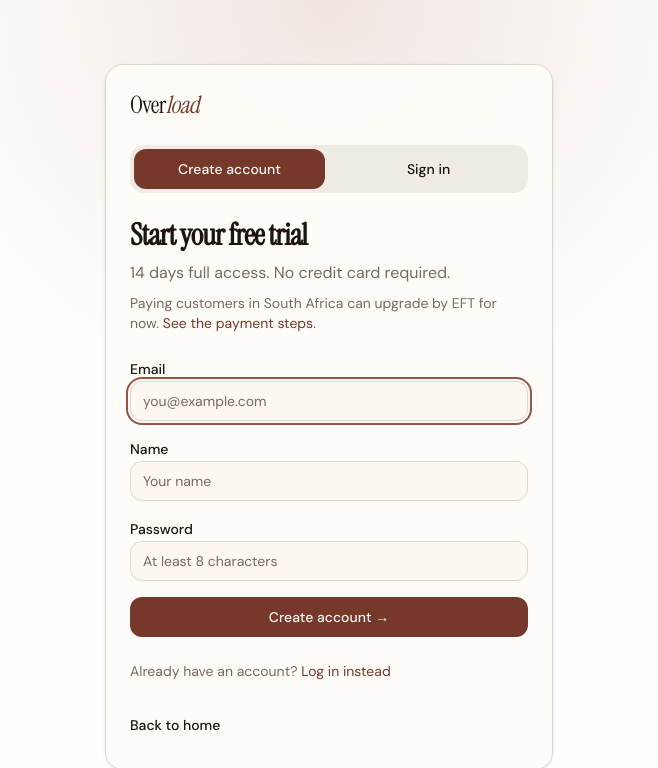
Test case: LoginPage › sign-up mode › validates that name is required when signing up
# Fill email and password but leave name empty
Type "new@example.com" into the field labelled "Email".
click(329, 401); type("new@example.com")  # box [130,381,528,421]
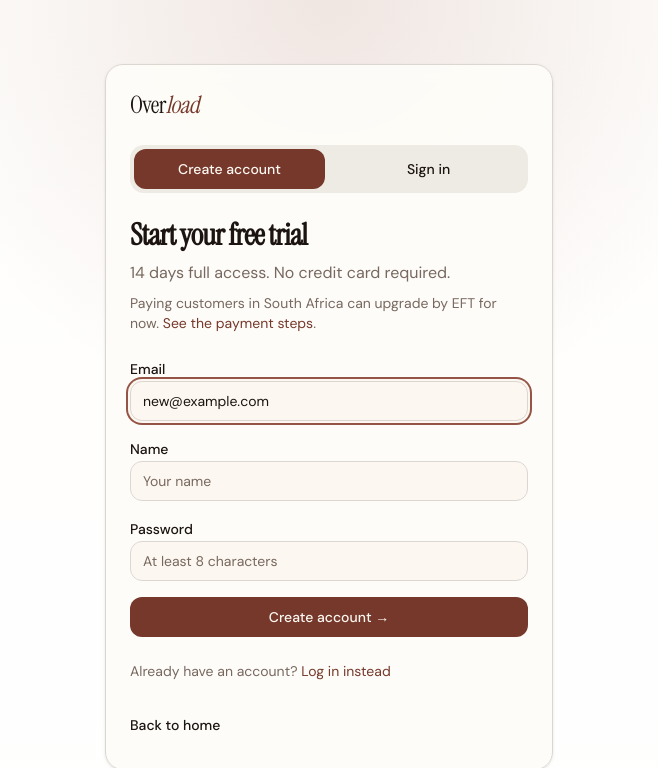
Type "hunter22" into the password field labelled "Password".
click(329, 561); type("hunter22")  # box [130,541,528,581]
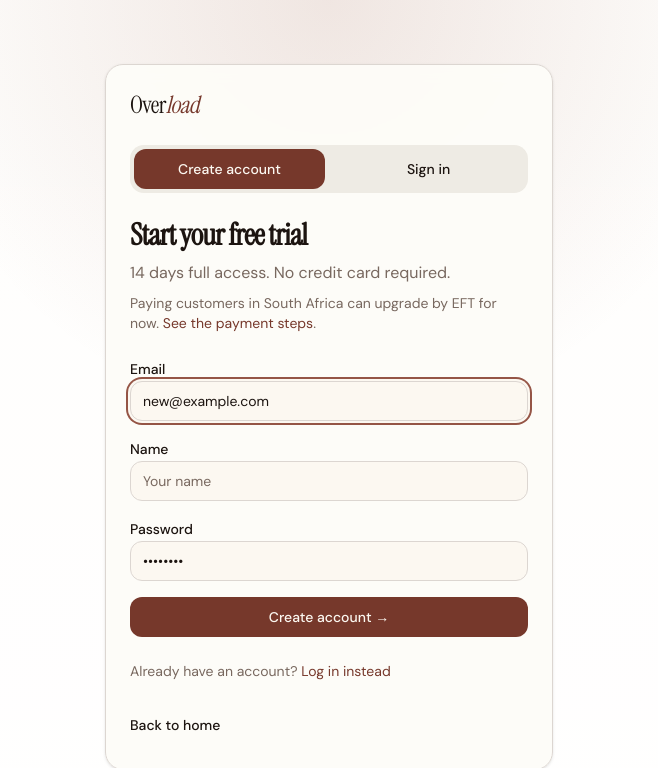
Submit the text "Email Name Password Create account →", box [130,357,528,637]
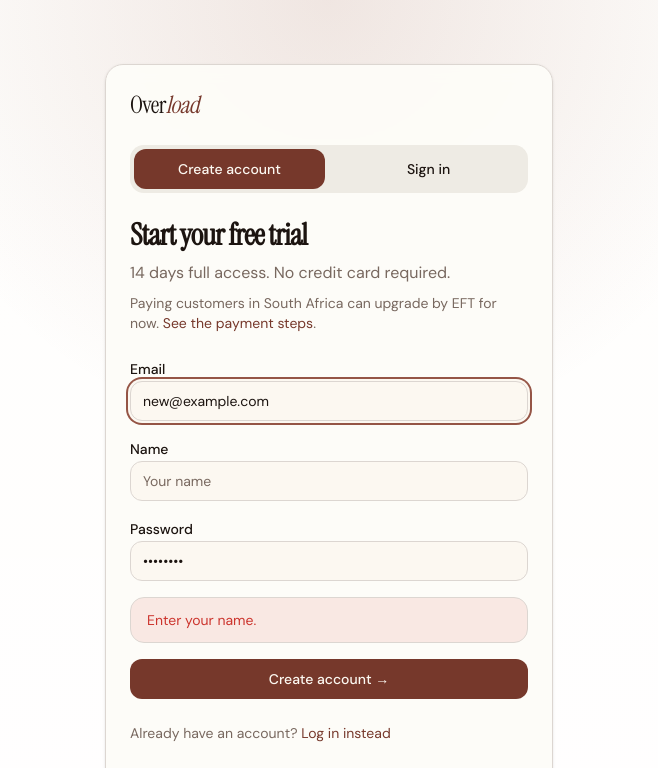
Expected: the text "Enter your name." is shown, [130,597,528,643]
